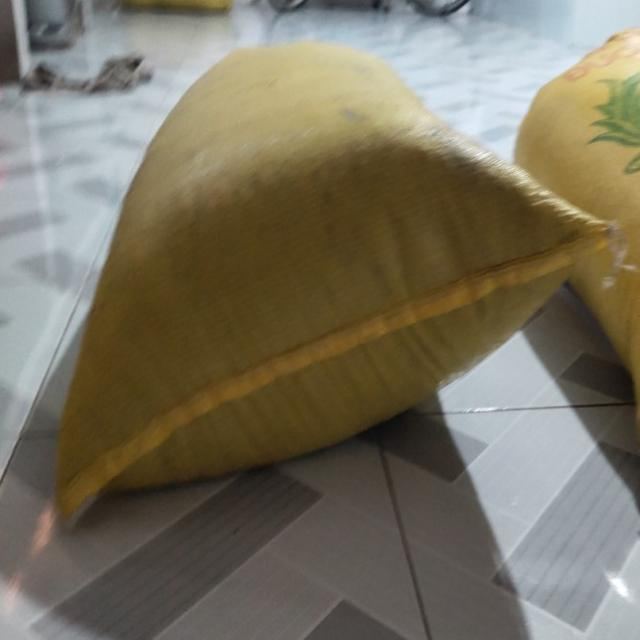gunny_bag: (56, 42, 610, 517)
